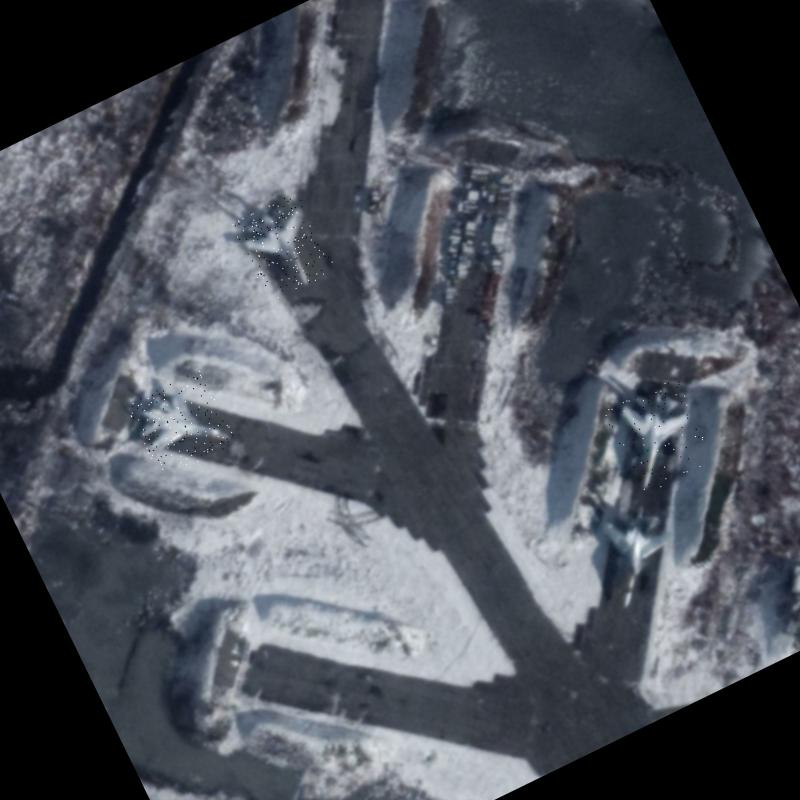A1: (602, 376, 718, 496), (124, 368, 237, 479), (230, 190, 336, 302)
